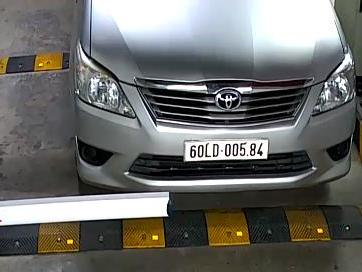number: (183, 137, 270, 163)
